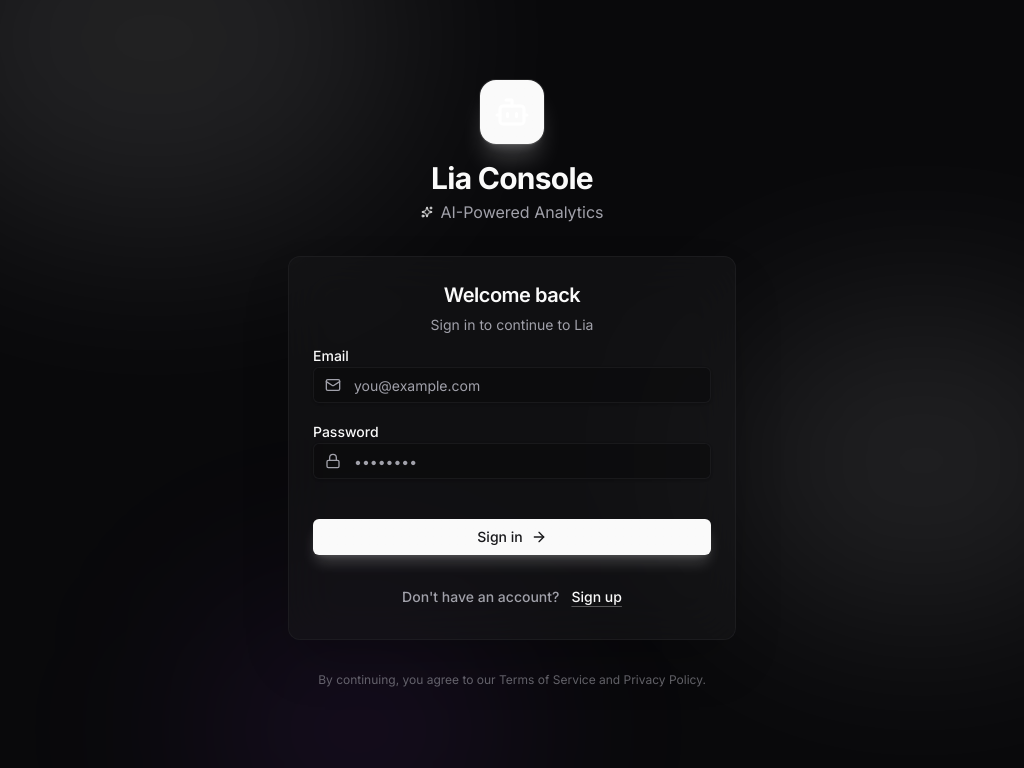
Test: AuthPage › Form Toggle › switches to register form when clicking sign up link
This screenshot has width=1024, height=768.
Step 1. Click the button "Don't have an account? Sign up" → (512, 597), box [386,579,638,615]
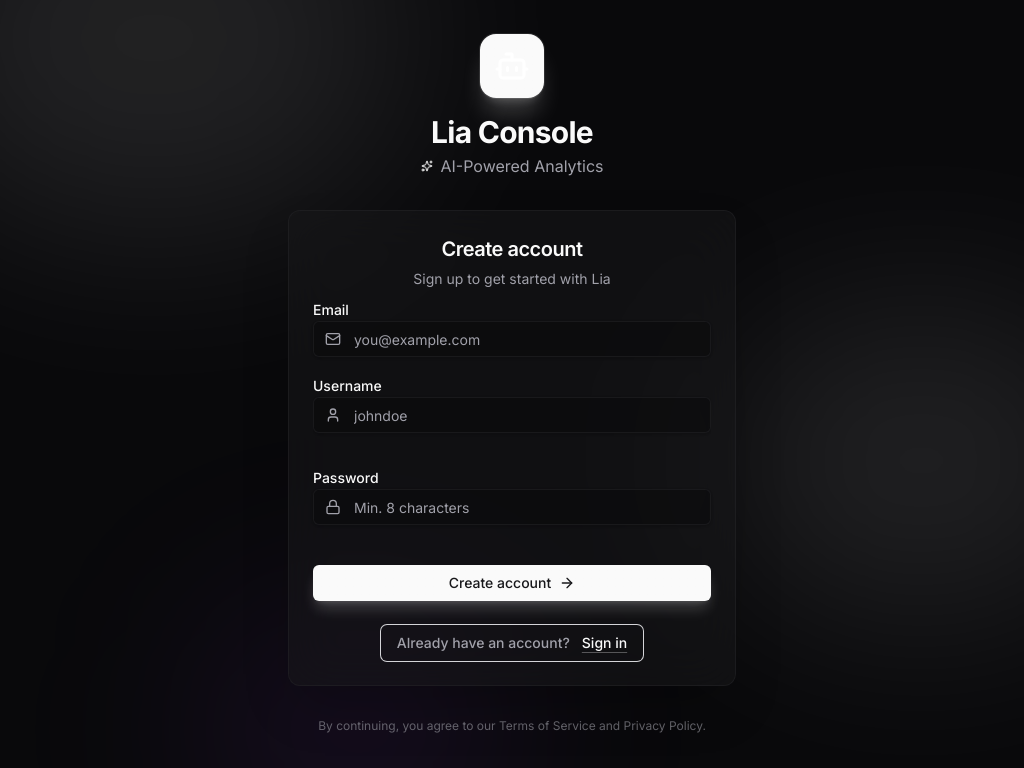
Expected: the text "Create account" is shown, [442,237,582,261]
Expected: the field labelled "Username" is shown, [313,397,711,433]
